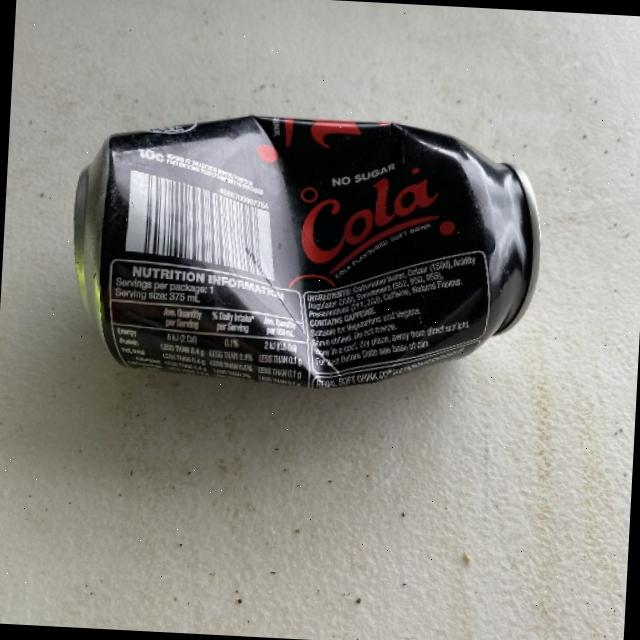metal: (64, 103, 546, 401)
